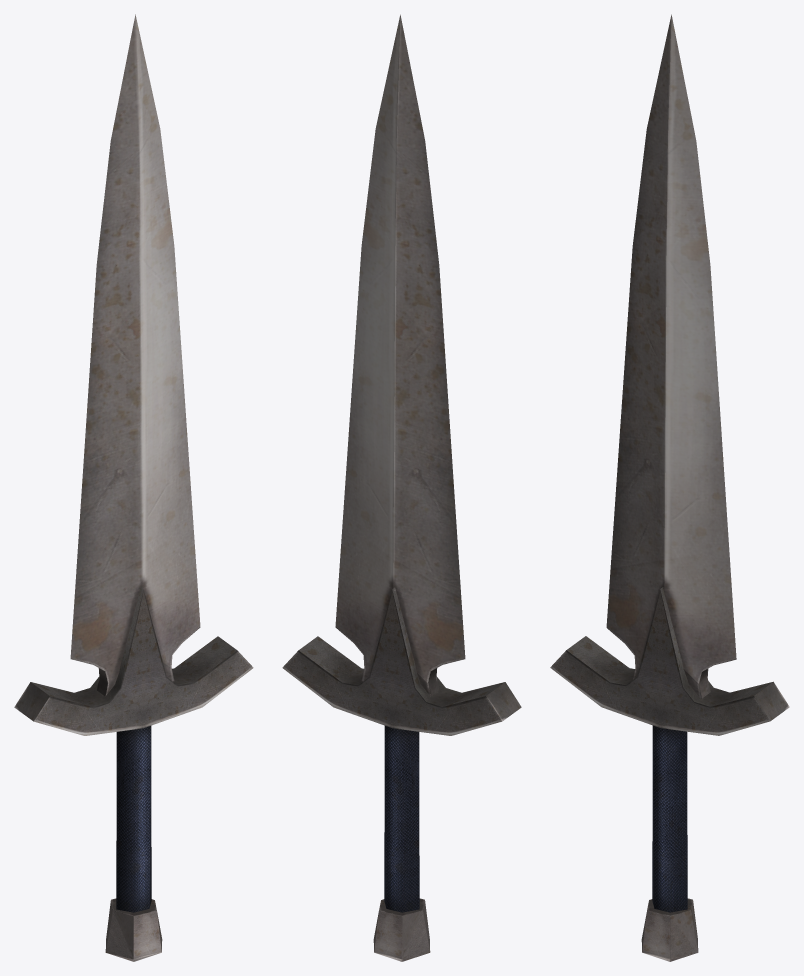
Rendered from 45_weapon.FBX.
3 renders of one model, left to right at view 1: azimuth 30°, elevation 25°; view 2: azimuth 150°, elevation 25°; view 3: azimuth 330°, elevation 25°, orthographic.
Visible parts, largest first — view 1: 45_dagger; view 2: 45_dagger; view 3: 45_dagger.
Part boxes in pixels (left/top/right/bottom): 45_dagger: left=14, top=14, right=253, bottom=961; 45_dagger: left=282, top=14, right=521, bottom=961; 45_dagger: left=550, top=14, right=789, bottom=961.
Size of the model in its own units: 416 by 1710 by 90.45.
